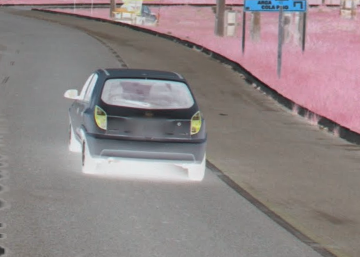car: (61, 63, 212, 195)
